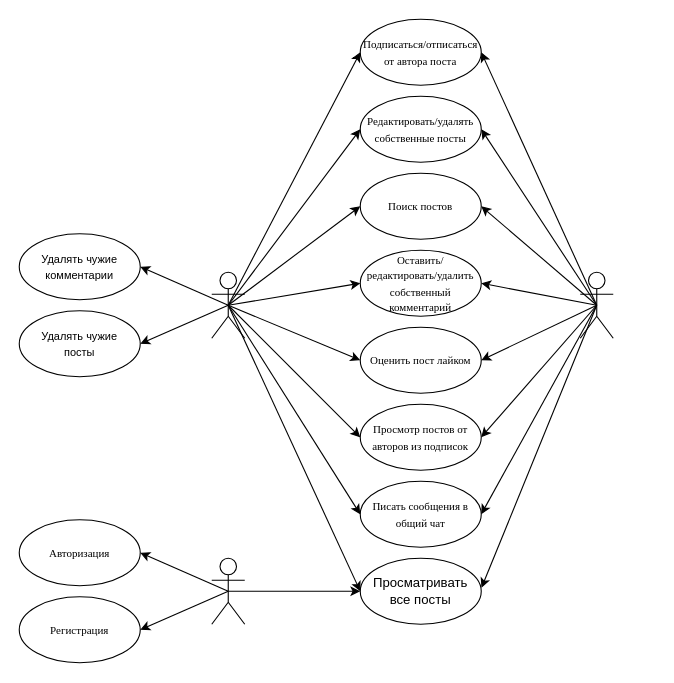
This 674x683 diagram has some shape labels left out. The centre of each missing label's shape, as x and y in pixels:
Авторизированный пользователь: the point at 596,304
Администратор: the point at 228,304
Неавторизированный пользователь: the point at 228,590
